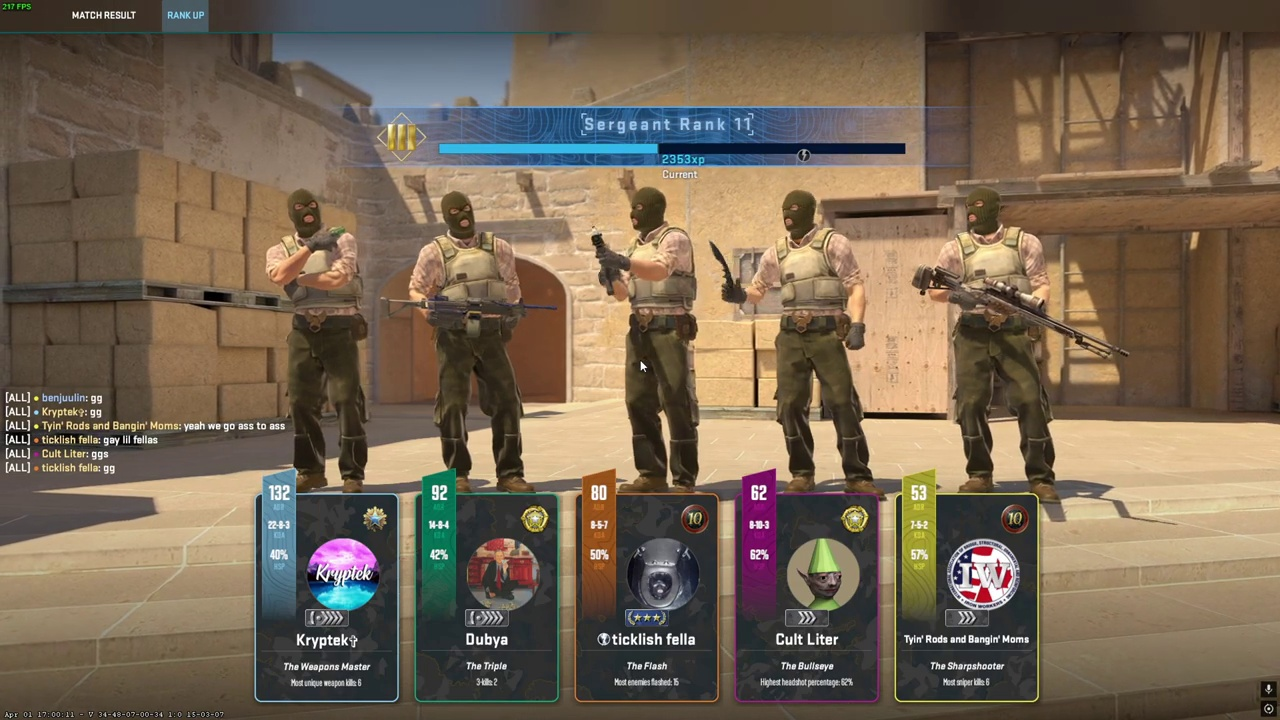Terrorist: (941, 186, 1058, 505), (759, 190, 867, 494), (419, 191, 527, 493), (268, 188, 370, 494), (611, 187, 700, 493)
